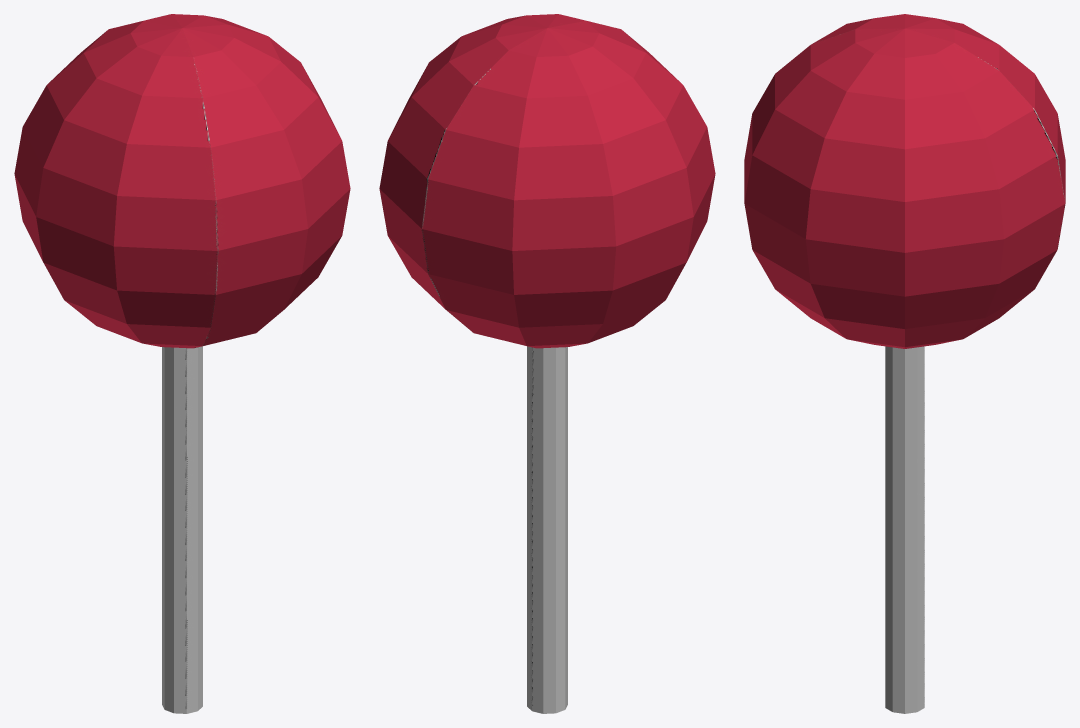
File: lolipop.dae
3 renders of one model, left to right at view 1: azimuth 30°, elevation 25°; view 2: azimuth 150°, elevation 25°; view 3: azimuth 270°, elevation 25°, orthographic.
Parts seen in each view (by area): view 1: Lollipop_headusOBJexport; view 2: Lollipop_headusOBJexport; view 3: Lollipop_headusOBJexport.
Part boxes in pixels (box(x1,y1,x2,y2)): Lollipop_headusOBJexport: box(14, 14, 350, 713); Lollipop_headusOBJexport: box(379, 14, 715, 713); Lollipop_headusOBJexport: box(744, 14, 1065, 713).
Bounding box in the file's own units: 0.0815 × 0.0775 × 0.1811.
Materials: 1 (1 with a texture image).
